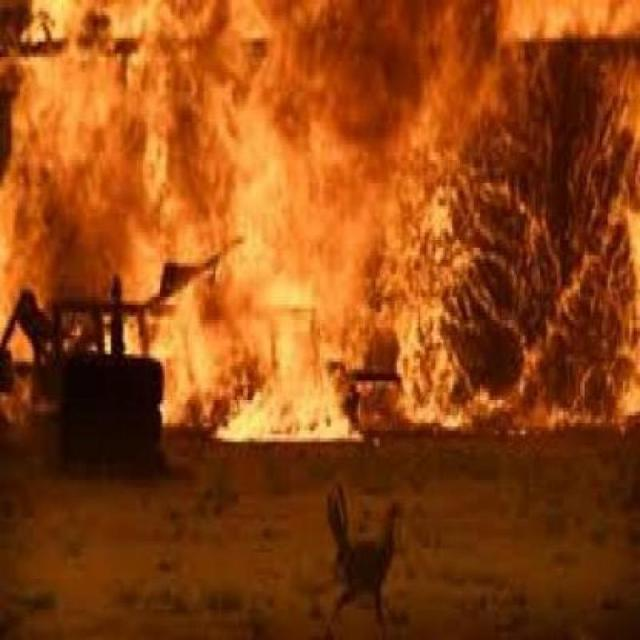Fire: (1, 14, 640, 464)
